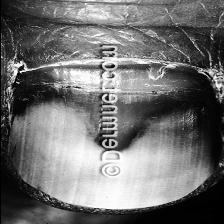Toxin: (2, 56, 220, 212)
